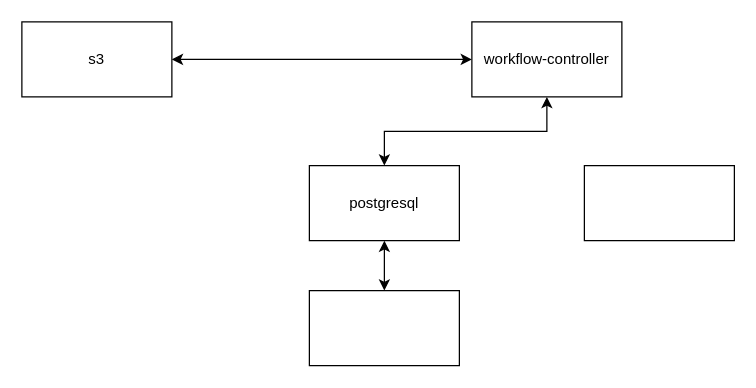
The diagram is 756 pixels wide and 388 high, and some of its shapes have lost their labels. The shapes that lost their labels are listed below. From the top down, each one's centre as x and y in pixels, then its label:
(x=658, y=202): argo-server
(x=383, y=327): ebs
